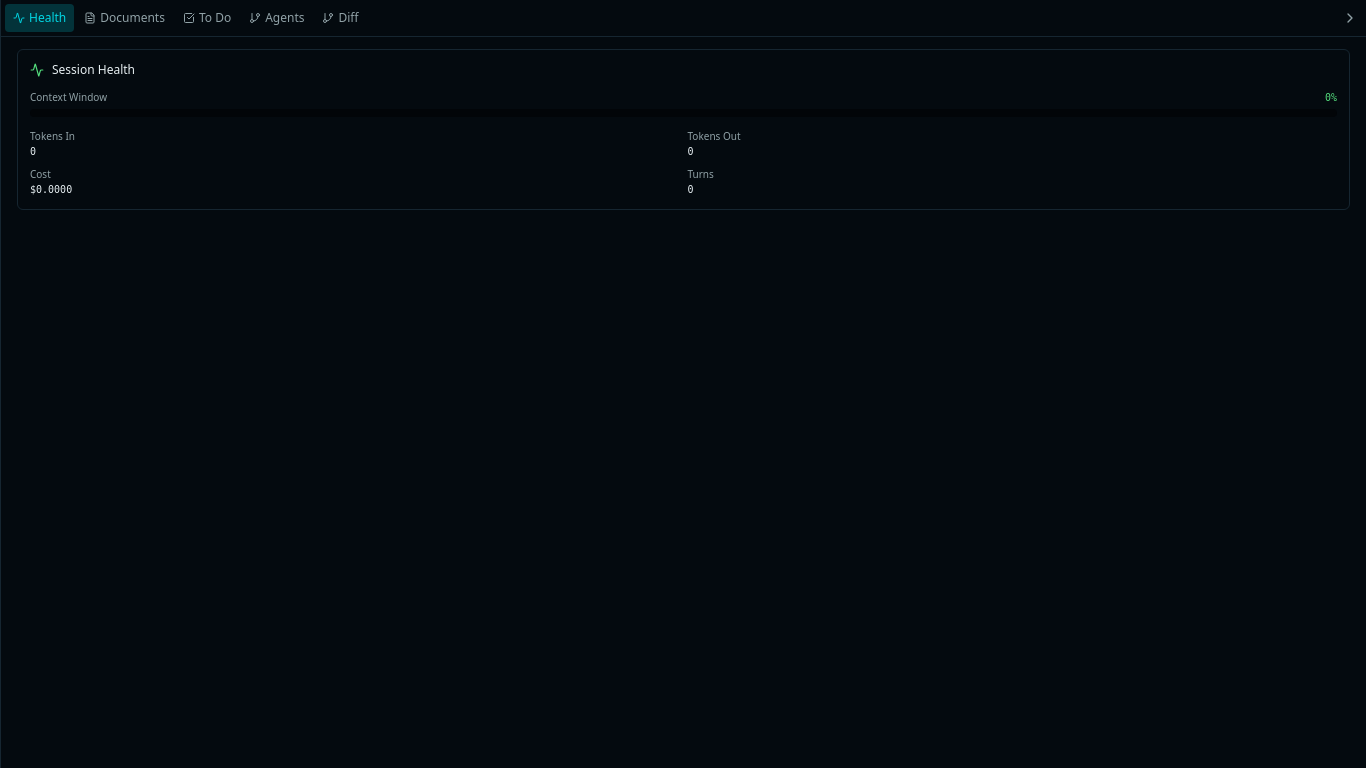
Scenario: GoalPlanPane › renders markdown content when document is selected
Click the button "Documents": (125, 18) top-left (76, 4), bottom-right (173, 32)
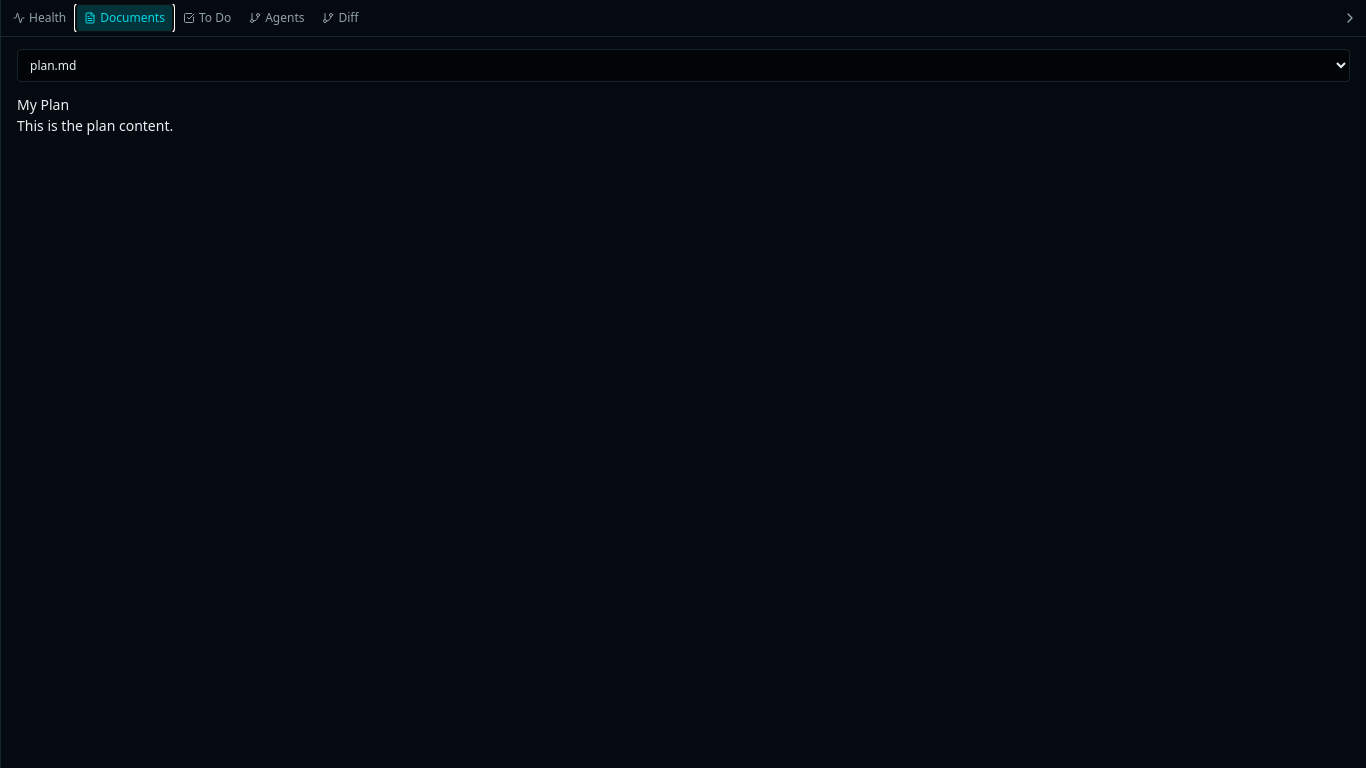
Now the heading "My Plan" is shown, box top-left (17, 95), bottom-right (69, 114)
Now the text "This is the plan content." is shown, box top-left (17, 116), bottom-right (173, 135)
